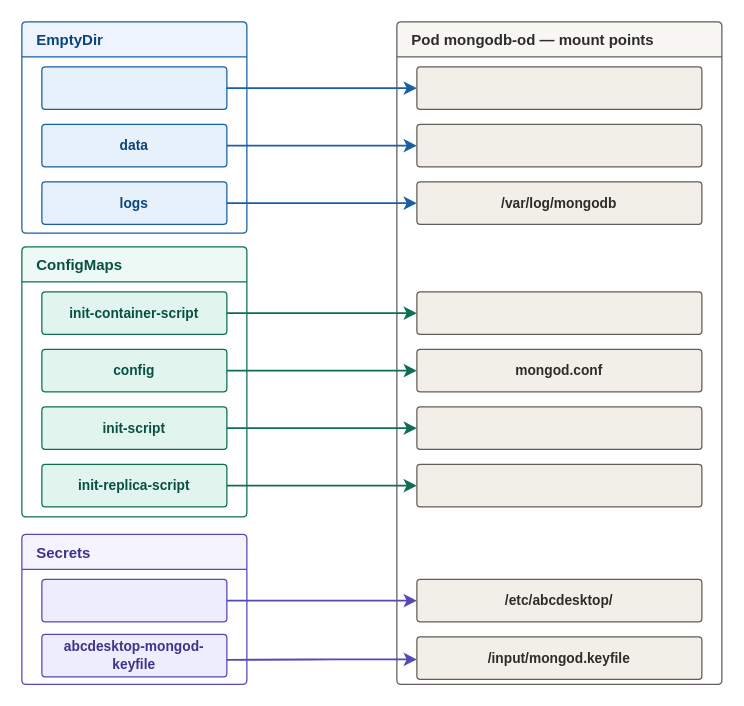
This 744x706 diagram has some shape labels left out. The shapes that lost their labels are listed below. From the top down, each one's centre as x and y in pixels, then its label:
At point 134,87: "prepared-config".
At point 559,87: "/etc/mongodb/".
At point 559,145: "/data/db".
At point 559,312: "init-container.sh".
At point 559,427: "/docker-entrypoint-initdb.d/init.js".
At point 559,485: "/scripts/init-replica.sh".
At point 134,600: "abcdesktop".
